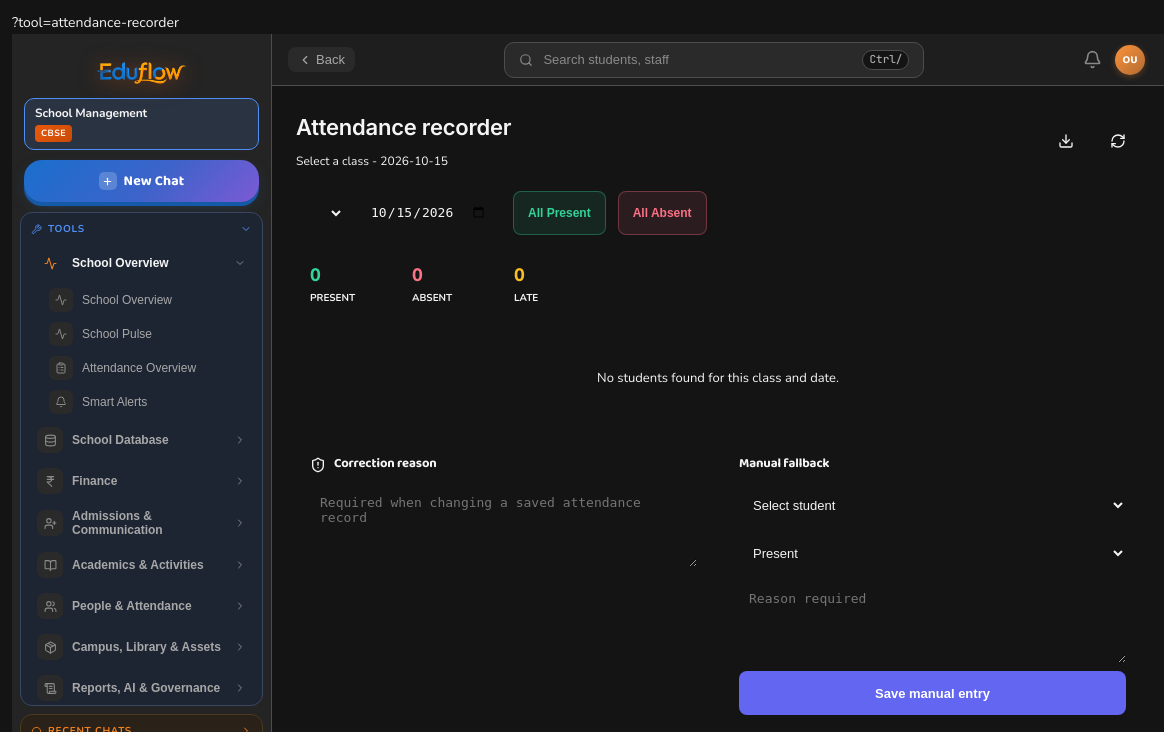
tool selection updates URL search param
The width and height of the screenshot is (1164, 732).
Expected: the text with test id "location-search" shows "tool=attendance-recorder", [12,13,179,32]
Click the button with test id "tool-group-finance-commercial-hub". click: (142, 481)
box: [27,461,256,501]
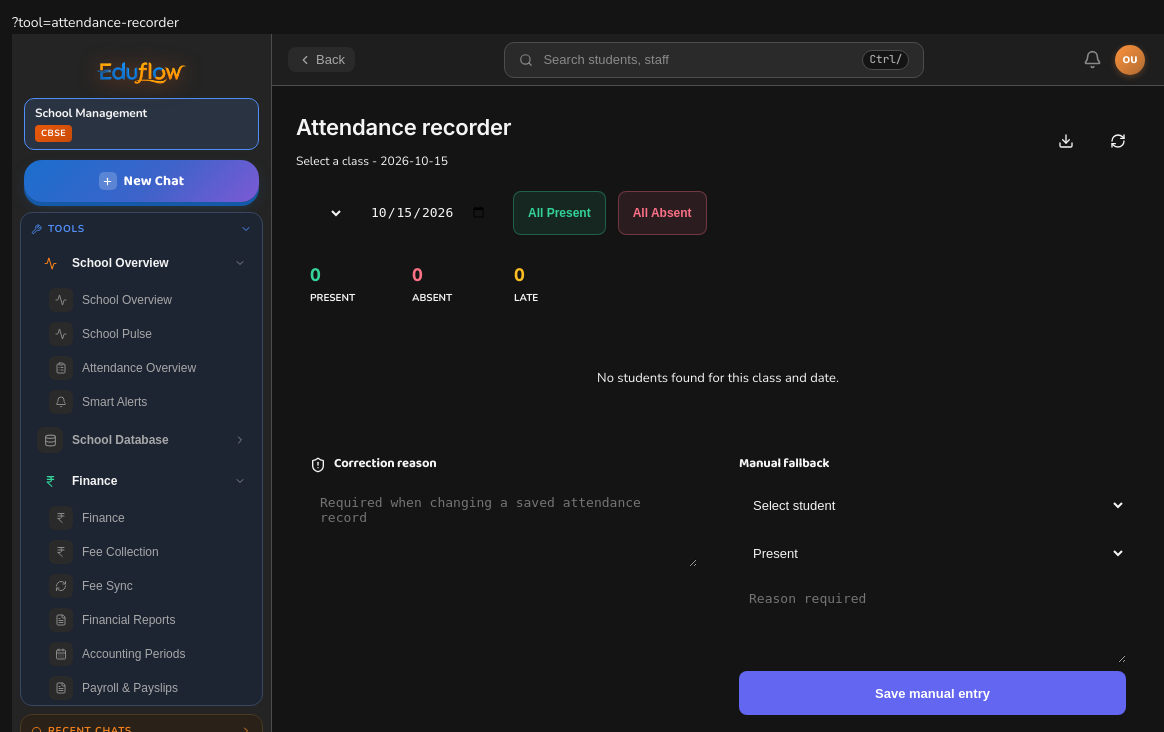
Click the button with test id "tool-btn-finance-commercial-hub". click: (146, 518)
box: [35,501,256,535]
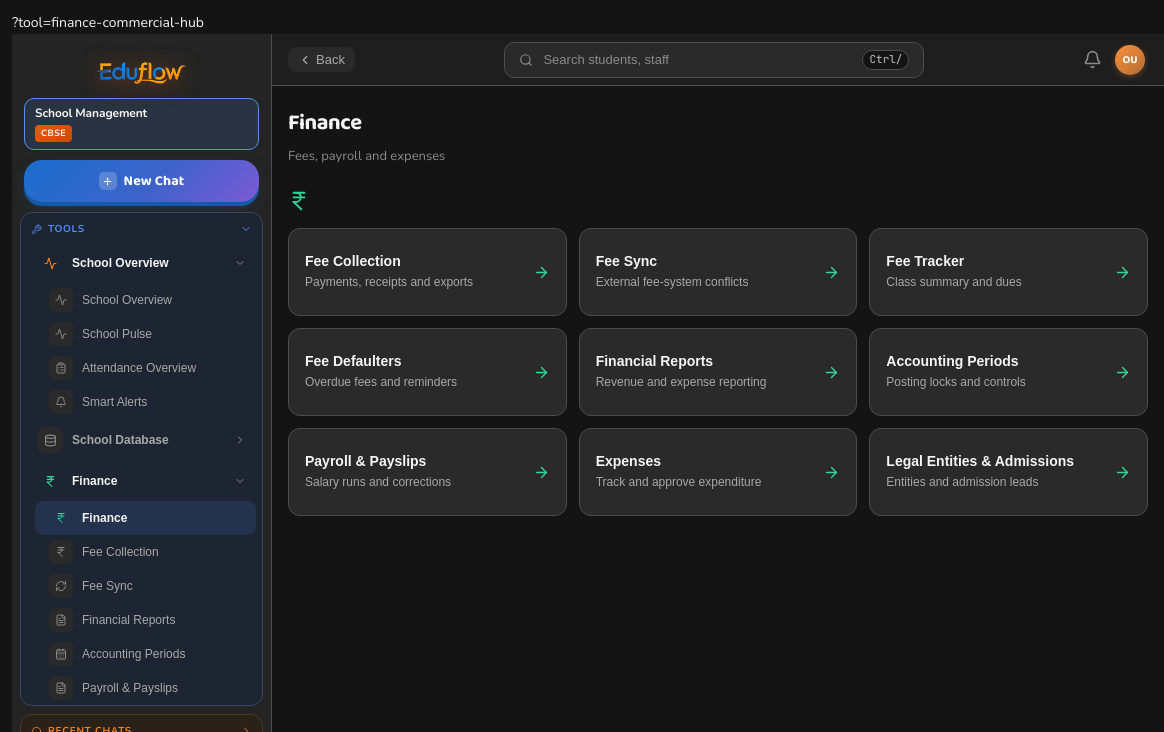
Now the element with test id "management-hub-finance-commercial-hub" is shown, box [288,228,1148,516]
Click the button with aria-label "Open Fee Sync". click: (718, 272)
box: [579,228,857,316]
(page scrolled)
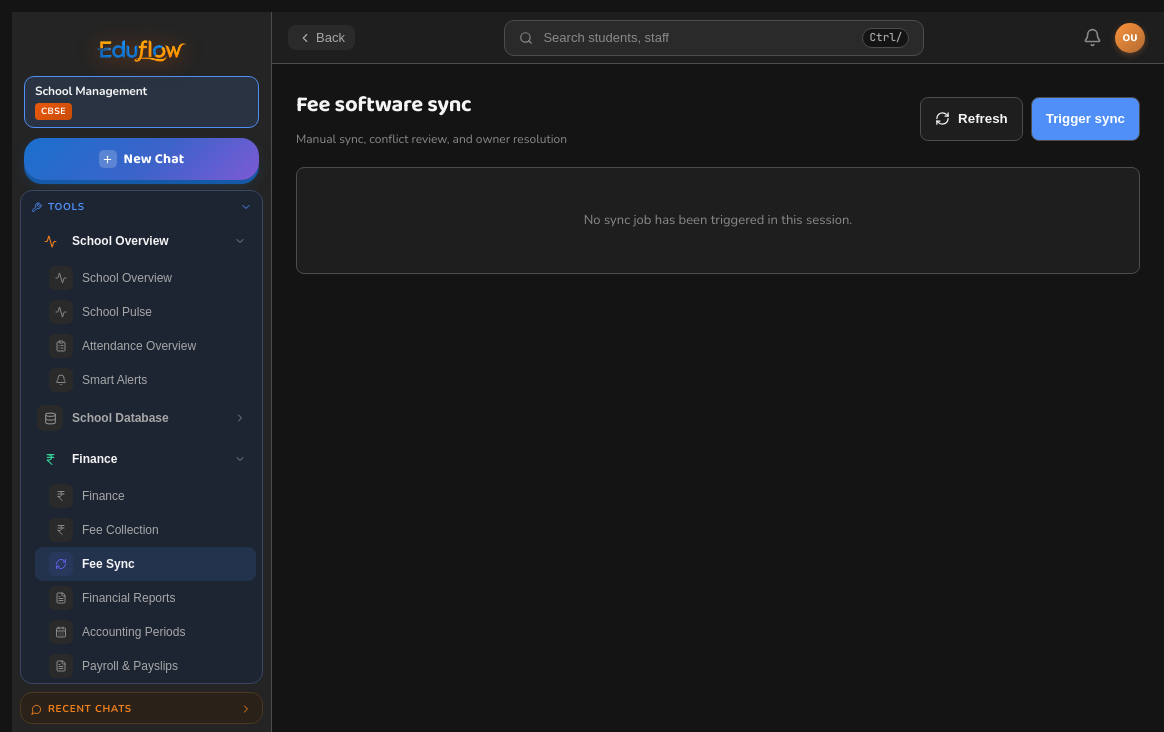
Now the element with test id "fee-sync-tool" is shown, box [296,87,1140,274]
